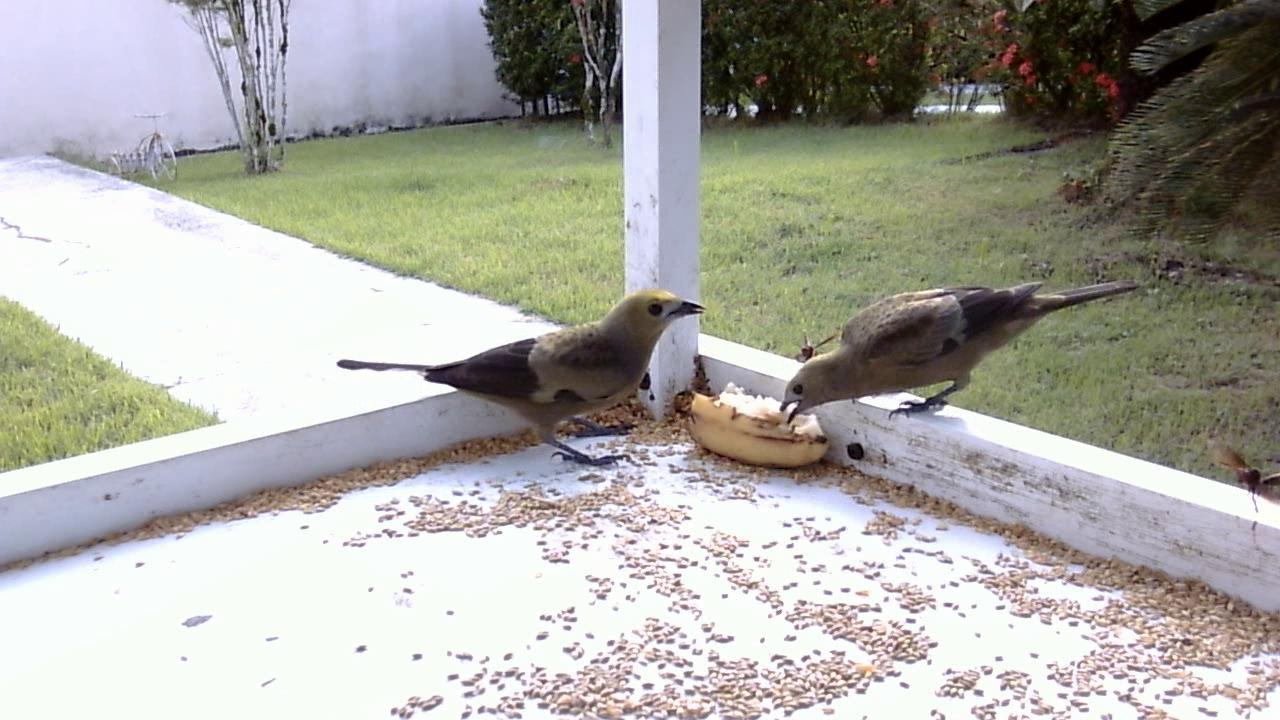sanhaco_do_coqueiro: (334, 278, 704, 483), (772, 272, 1150, 444)
